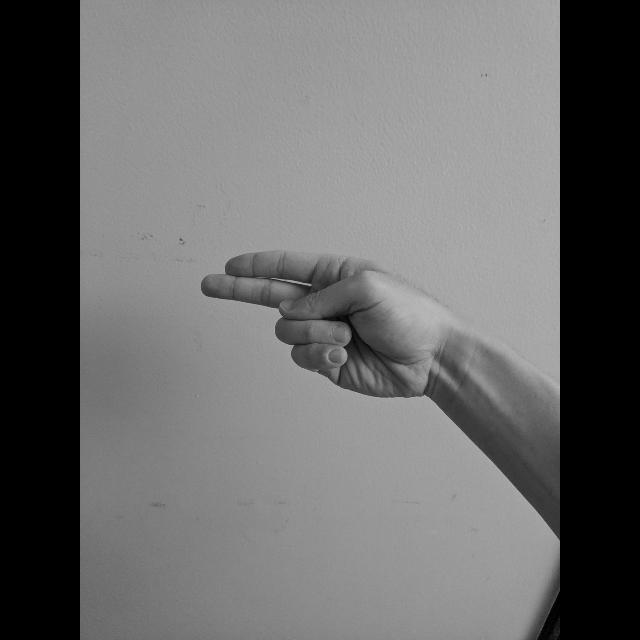H: (194, 244, 440, 410)
